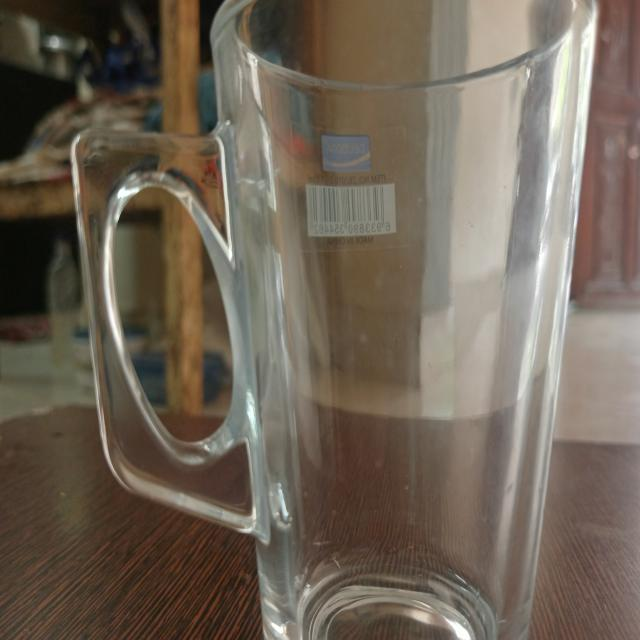glass-VX4N: (71, 0, 613, 640)
